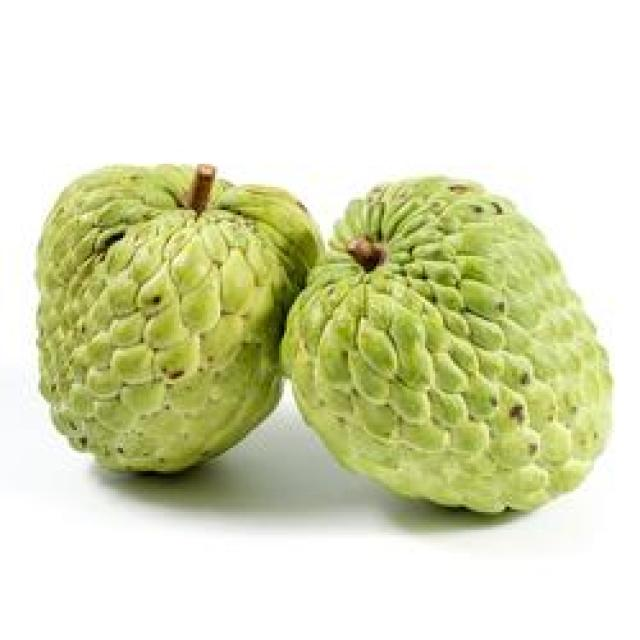apple: (287, 154, 614, 517), (30, 164, 322, 481)
